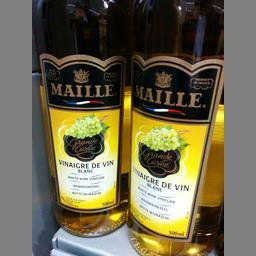vinegar: (128, 0, 223, 255), (33, 0, 130, 237)
